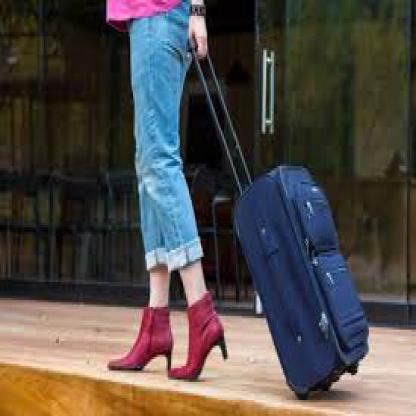maleta: (226, 159, 376, 407)
